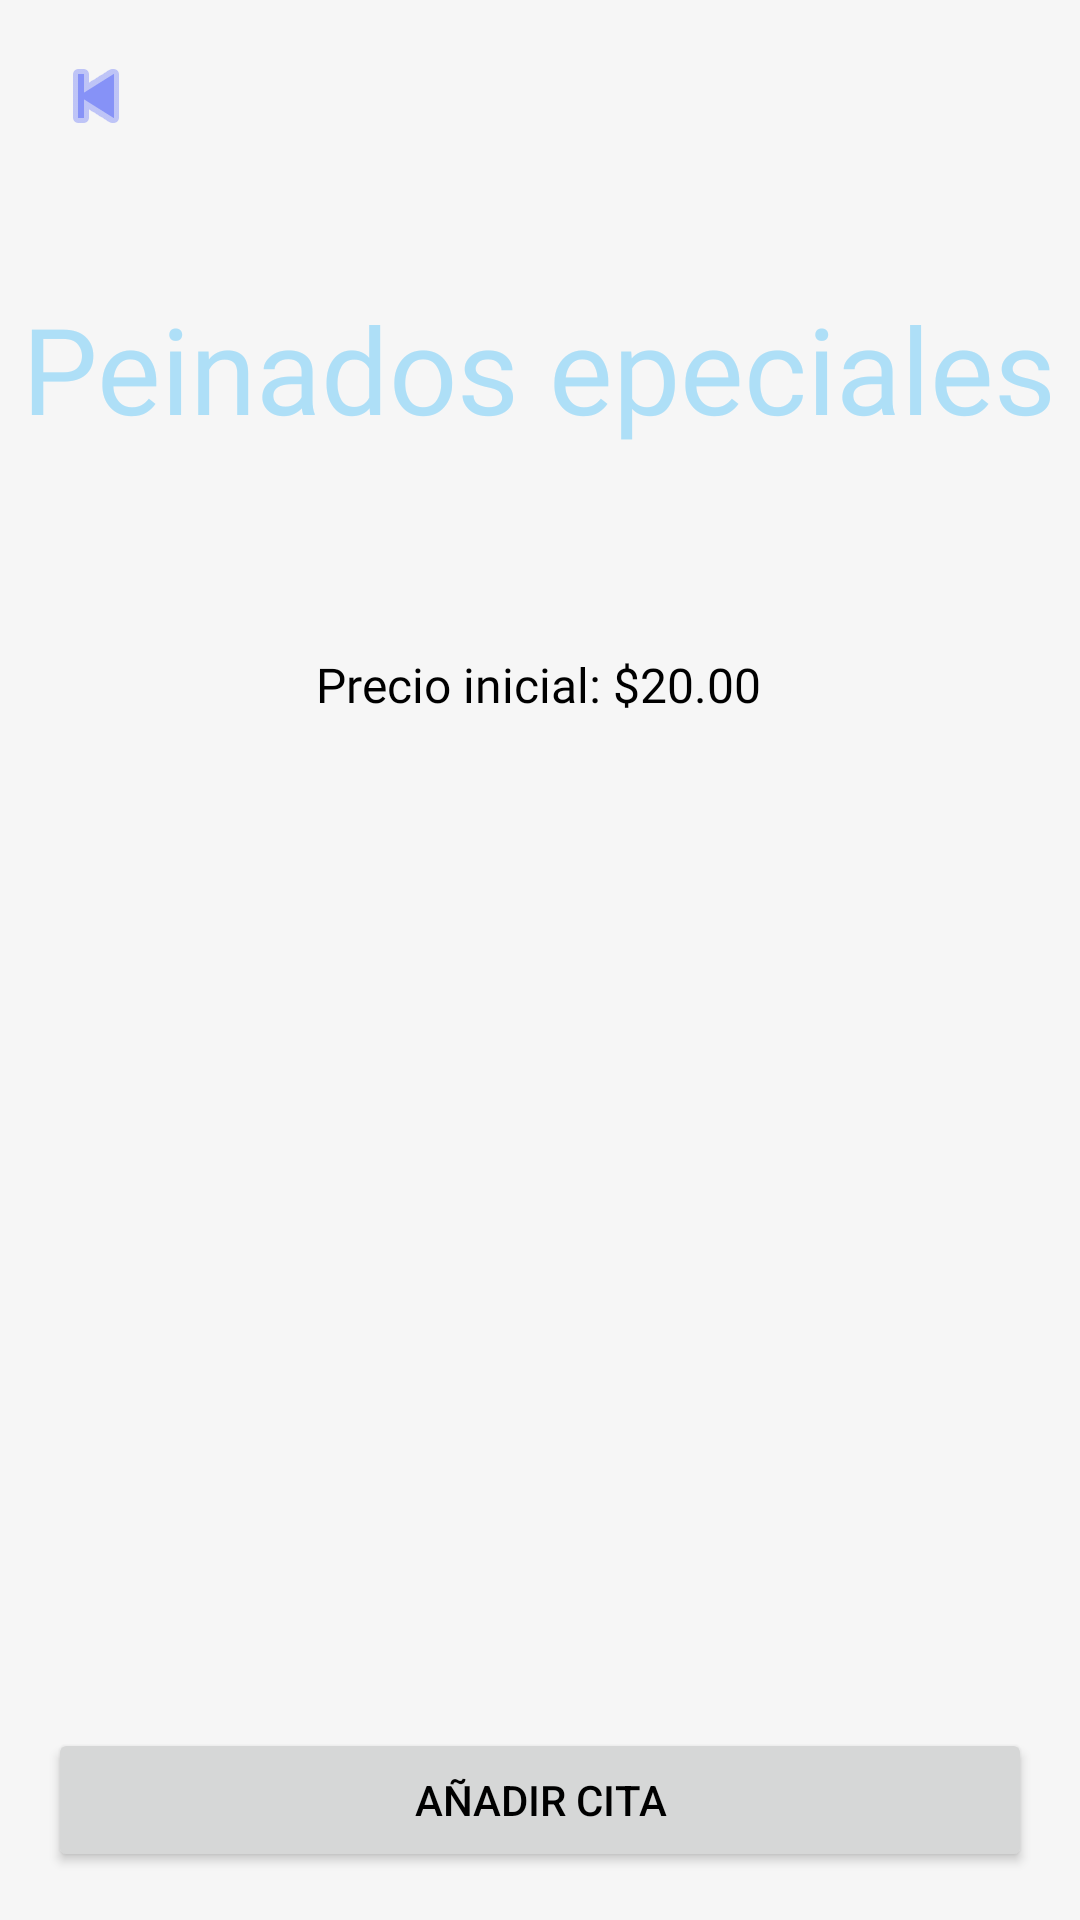

Icons on this 1080 x 1920 Android screen, each with its box as [x1=x1, y1=y1, x2=x2, y2=y2]:
previous: [x1=73, y1=69, x2=119, y2=123]
